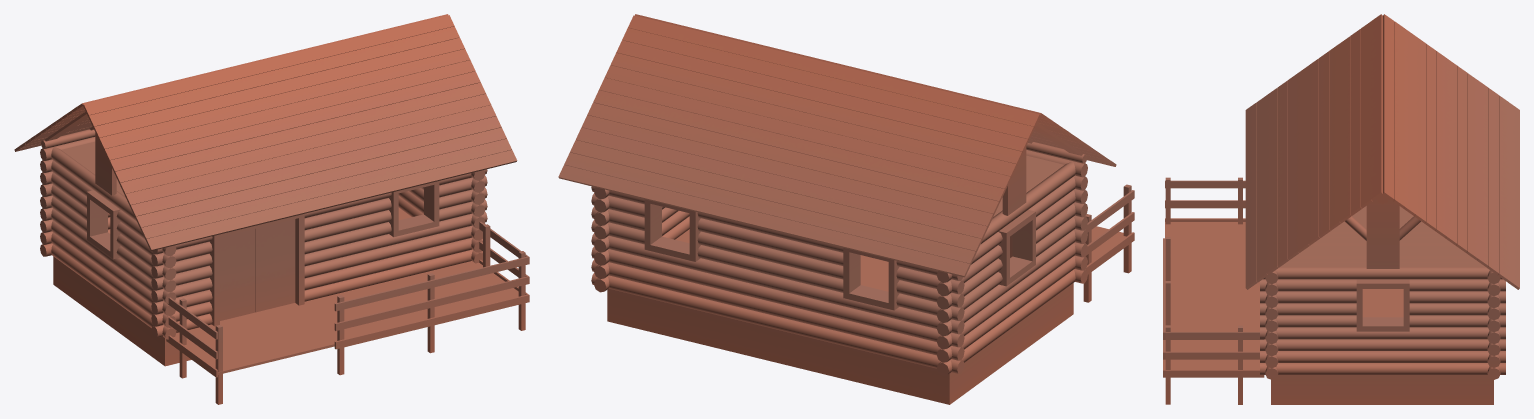
File: Snowy_House.FBX
3 views of the same model, side by side, from view 1: azimuth 30°, elevation 25°; view 2: azimuth 150°, elevation 25°; view 3: azimuth 270°, elevation 25° (orthographic). The views are drawn at different scales.
Parts seen in each view (by area): view 1: Snowy_House; view 2: Snowy_House; view 3: Snowy_House.
Boxes of the visible parts, left/top/right/bottom form: Snowy_House: left=14, top=14, right=529, bottom=404; Snowy_House: left=558, top=14, right=1134, bottom=404; Snowy_House: left=1163, top=14, right=1519, bottom=404.
Bounding box in the file's own units: 812 × 484 × 687.
1 material, 1 textured.
